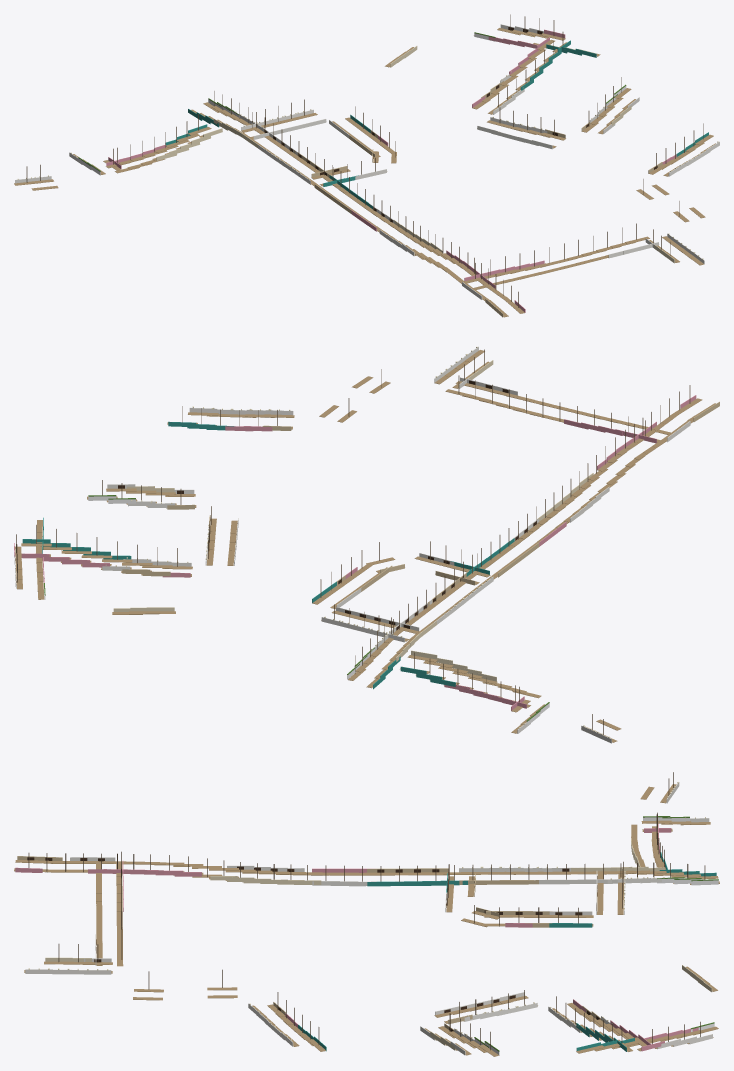
The model's file is noord_res_-26_-21.glb.
3 renders of one model, top to bottom at view 1: azimuth 30°, elevation 25°; view 2: azimuth 150°, elevation 25°; view 3: azimuth 270°, elevation 25°, orthographic. The views are drawn at different scales.
Visible parts, largest first — view 1: noord_res_-26_-21_lod0; view 2: noord_res_-26_-21_lod0; view 3: noord_res_-26_-21_lod0.
Part boxes in pixels (left/top/right/bottom): noord_res_-26_-21_lod0: left=14, top=14, right=719, bottom=317; noord_res_-26_-21_lod0: left=14, top=346, right=719, bottom=743; noord_res_-26_-21_lod0: left=14, top=772, right=719, bottom=1056.
Size of what is drawn, in the model's own units: 286 by 24.24 by 283.
